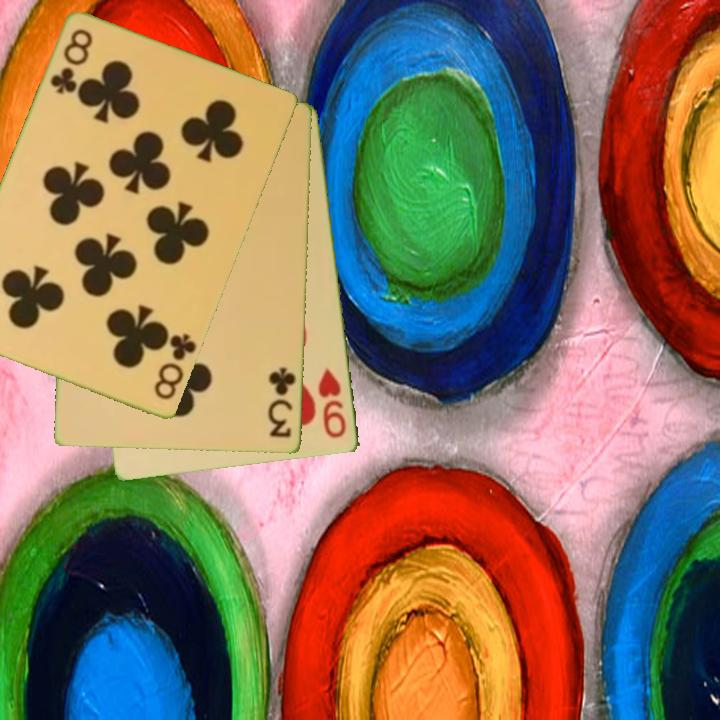3c: (265, 364, 299, 440)
8c: (46, 25, 96, 98), (151, 329, 199, 404)
9h: (315, 365, 350, 442)
